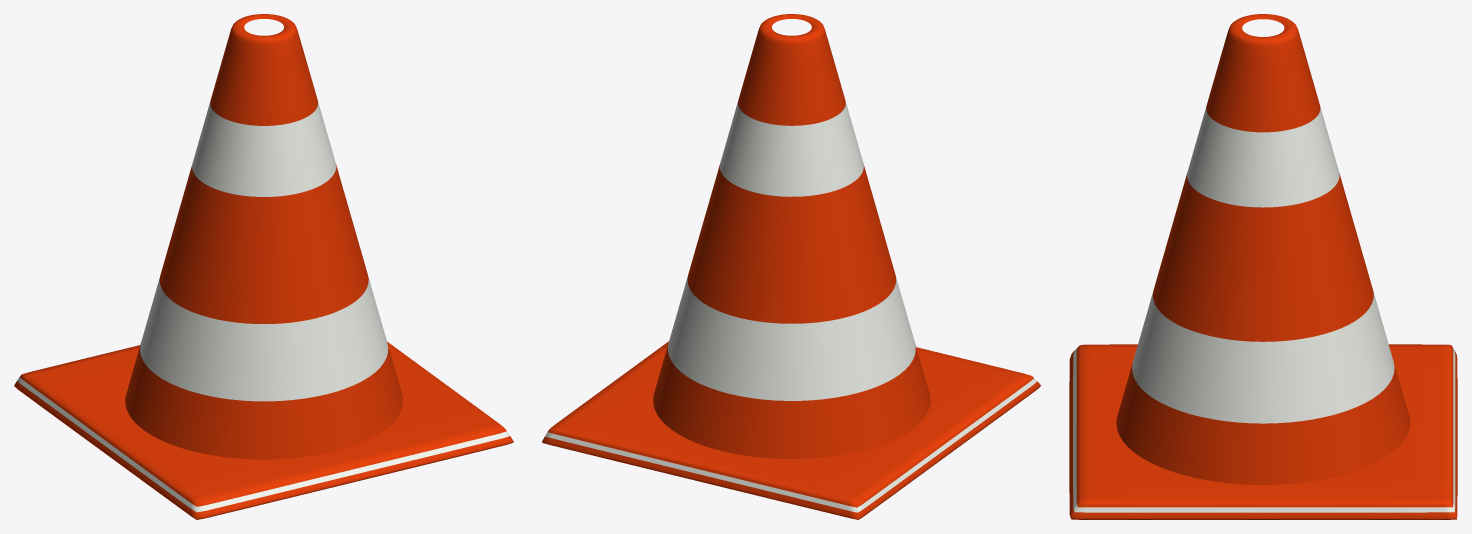
The model's file is fuel-runner-pylon_1119a.glb.
3 views of the same model, side by side, from view 1: azimuth 30°, elevation 25°; view 2: azimuth 150°, elevation 25°; view 3: azimuth 270°, elevation 25° (orthographic). The views are drawn at different scales.
Visible parts, largest first — view 1: Cylinder-Material.002, Cylinder-Material.001, Plane.1-Material.002, Plane.1-Material.001; view 2: Cylinder-Material.002, Cylinder-Material.001, Plane.1-Material.002, Plane.1-Material.001; view 3: Cylinder-Material.002, Cylinder-Material.001, Plane.1-Material.002, Plane.1-Material.001.
Part boxes in pixels (bbox=[...]): Cylinder-Material.002: bbox=[125, 14, 402, 459]; Cylinder-Material.001: bbox=[140, 102, 388, 401]; Plane.1-Material.002: bbox=[14, 341, 513, 519]; Plane.1-Material.001: bbox=[17, 377, 509, 512]; Cylinder-Material.002: bbox=[653, 14, 930, 458]; Cylinder-Material.001: bbox=[668, 102, 915, 400]; Plane.1-Material.002: bbox=[542, 341, 1040, 519]; Plane.1-Material.001: bbox=[545, 378, 1037, 512]; Cylinder-Material.002: bbox=[1116, 14, 1410, 484]; Cylinder-Material.001: bbox=[1132, 107, 1394, 423]; Plane.1-Material.002: bbox=[1069, 344, 1457, 519]; Plane.1-Material.001: bbox=[1073, 348, 1455, 512].
Size of the model in its own units: 1.47 by 1.72 by 1.47.
